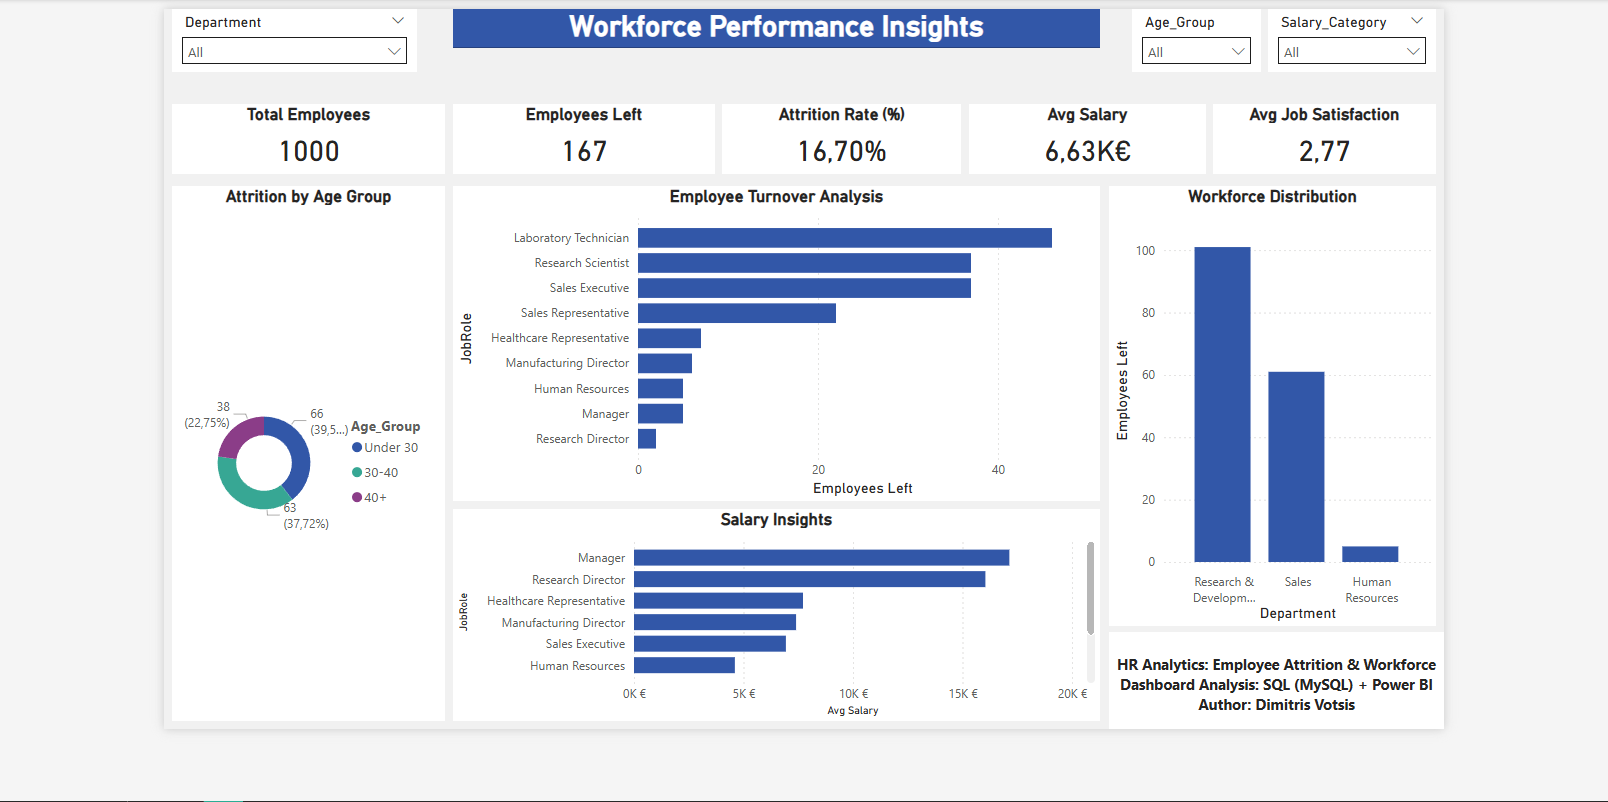

This screenshot's page, from the dashboard's own definition file:
{"tool":"powerbi","page":{"name":"Workforce Overview","canvas":[1280,720],"ordinal":0},"visuals":[{"type":"card","title":"Employees Left","fields":{"Values":["HR_Final_Data.Employees Left"]},"box":[288.9,95.3,261.6,70],"z":0},{"type":"card","title":"Total Employees","fields":{"Values":["HR_Final_Data.Total Employees"]},"box":[7.8,95.3,273.3,70],"z":1000},{"type":"card","title":"Avg Job Satisfaction","fields":{"Values":["HR_Final_Data.Avg Job Satisfaction"]},"box":[1048.5,95.3,223.7,70],"z":2000},{"type":"card","title":"Avg Salary","fields":{"Values":["HR_Final_Data.Avg Salary"]},"box":[805.3,95.3,236.4,70],"z":3000},{"type":"card","title":"Attrition Rate (%)","fields":{"Values":["HR_Final_Data.Attrition Rate"]},"box":[558.3,95.3,238.3,70],"z":4000},{"type":"donutChart","title":"Attrition by Age Group","fields":{"Category":["HR_Final_Data.Age_Group"],"Y":["HR_Final_Data.Employees Left"]},"box":[7.8,177,273.3,535],"z":5000},{"type":"clusteredBarChart","title":"Employee Turnover Analysis","fields":{"Category":["HR_Final_Data.JobRole"],"Y":["HR_Final_Data.Employees Left"]},"box":[288.9,177,646.8,315.1],"z":6000},{"type":"columnChart","title":"Workforce Distribution","fields":{"Category":["HR_Final_Data.Department"],"Y":["HR_Final_Data.Employees Left"]},"box":[945.4,177,326.8,439.6],"z":7000},{"type":"slicer","fields":{"Values":["HR_Final_Data.Age_Group"]},"box":[967.8,0,129.4,63.2],"z":8000},{"type":"slicer","fields":{"Values":["HR_Final_Data.Salary_Category"]},"box":[1104,0,168.3,63.2],"z":9000},{"type":"slicer","fields":{"Values":["HR_Final_Data.Department"]},"box":[7.8,0,245.1,63.2],"z":10000},{"type":"barChart","title":"Salary Insights","fields":{"Category":["HR_Final_Data.JobRole"],"Y":["HR_Final_Data.Avg Salary"]},"box":[288.9,499.9,646.8,212],"z":11000},{"type":"textbox","box":[945.4,623.5,334.6,96.3],"z":12000},{"type":"shape","title":"Workforce Performance Insights","box":[288.9,0,646.8,38.9],"z":13000}]}

Visuals, with their boxes on the page's 1280x720 design canvas (x1, y1, x2, y2). These are canvas units, not pixel positions in the 1608x802 screenshot, which may show the page scaled, cropped or inside an application window:
"Employees Left" card: 289,95,550,165
"Total Employees" card: 8,95,281,165
"Avg Job Satisfaction" card: 1048,95,1272,165
"Avg Salary" card: 805,95,1042,165
"Attrition Rate (%)" card: 558,95,797,165
"Attrition by Age Group" donutChart: 8,177,281,712
"Employee Turnover Analysis" clusteredBarChart: 289,177,936,492
"Workforce Distribution" columnChart: 945,177,1272,617
slicer - HR_Final_Data.Age_Group: 968,0,1097,63
slicer - HR_Final_Data.Salary_Category: 1104,0,1272,63
slicer - HR_Final_Data.Department: 8,0,253,63
"Salary Insights" barChart: 289,500,936,712
textbox: 945,624,1280,720
"Workforce Performance Insights" shape: 289,0,936,39
